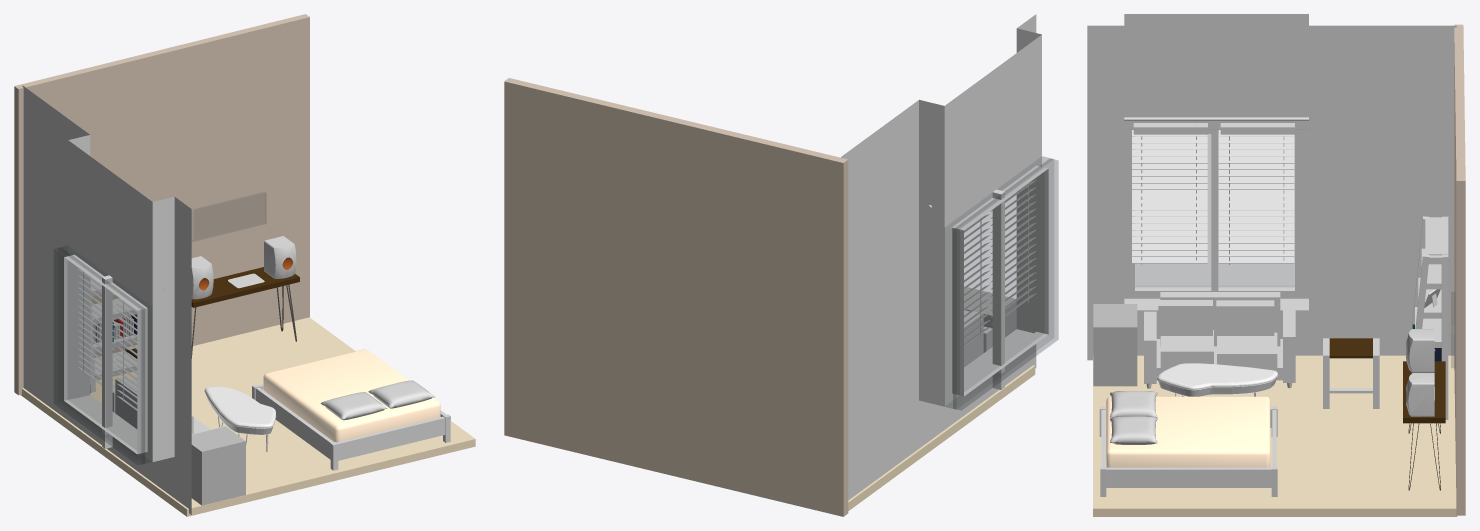
The model's file is tonyapt.dae.
3 renders of one model, left to right at view 1: azimuth 30°, elevation 25°; view 2: azimuth 150°, elevation 25°; view 3: azimuth 270°, elevation 25°, orthographic. The views are drawn at different scales.
Parts seen in each view (by area): view 1: right_wall, base, floor, windowpane, mattress, Cube (×4), Box_end_table, Gallerywrap, Extrude_NURBS.1, head_box, Window_divider, windowframe (+5 smaller); view 2: right_wall, base, windowpane, Cube, windowframe, Window_divider, floor, Box_end_table, Cube.3; view 3: base, floor, Cube (×8), mattress, right_wall, windowpane, Box_end_table, Cube.1 (×3), right_box, Extrude_NURBS.1, Cube.4, Cube.5 (+30 smaller).
Boxes of the visible parts, box(x1,y1,x2,y2) form: right_wall: box(14, 14, 309, 395); base: box(22, 85, 191, 514); floor: box(21, 317, 475, 516); windowpane: box(54, 247, 144, 464); mattress: box(263, 349, 440, 442); Cube (×4): box(64, 236, 434, 454); Box_end_table: box(191, 426, 245, 505); Gallerywrap: box(192, 192, 266, 241); Extrude_NURBS.1: box(204, 386, 276, 435); head_box: box(337, 416, 445, 460); Window_divider: box(102, 275, 112, 448); windowframe: box(58, 245, 151, 464); right_wall: box(504, 78, 848, 516); base: box(841, 14, 1041, 500); windowpane: box(953, 159, 1058, 410); Cube: box(952, 165, 1048, 396); windowframe: box(944, 156, 1053, 408); Window_divider: box(992, 189, 1004, 389); floor: box(848, 365, 1035, 510); Box_end_table: box(964, 287, 1016, 337); Cube.3: box(964, 311, 983, 367); base: box(1087, 14, 1456, 360); floor: box(1093, 355, 1457, 516); Cube (×8): box(1110, 123, 1434, 444); mattress: box(1106, 396, 1270, 467); right_wall: box(1454, 24, 1465, 515); windowpane: box(1135, 134, 1294, 286); Box_end_table: box(1093, 304, 1137, 386); Cube.1 (×3): box(1158, 300, 1379, 408); right_box: box(1106, 467, 1271, 487); Extrude_NURBS.1: box(1157, 363, 1278, 396); Cube.4: box(1217, 332, 1277, 369); Cube.5: box(1160, 330, 1213, 367).
Size of the model in its own units: 443 by 404 by 410.
